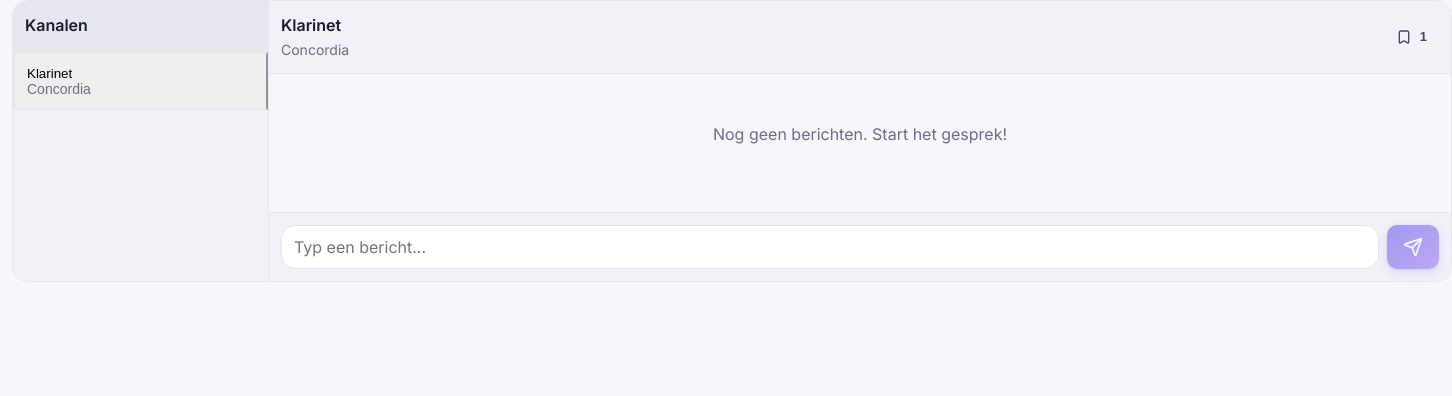
Test: berichten lezen › klapt de vastgepinde berichten open en weer dicht
Expected: the text "Vastgepinde berichten" is not shown
Click the button "1".
click(1411, 37)  # box left=1384, top=21, right=1439, bottom=53
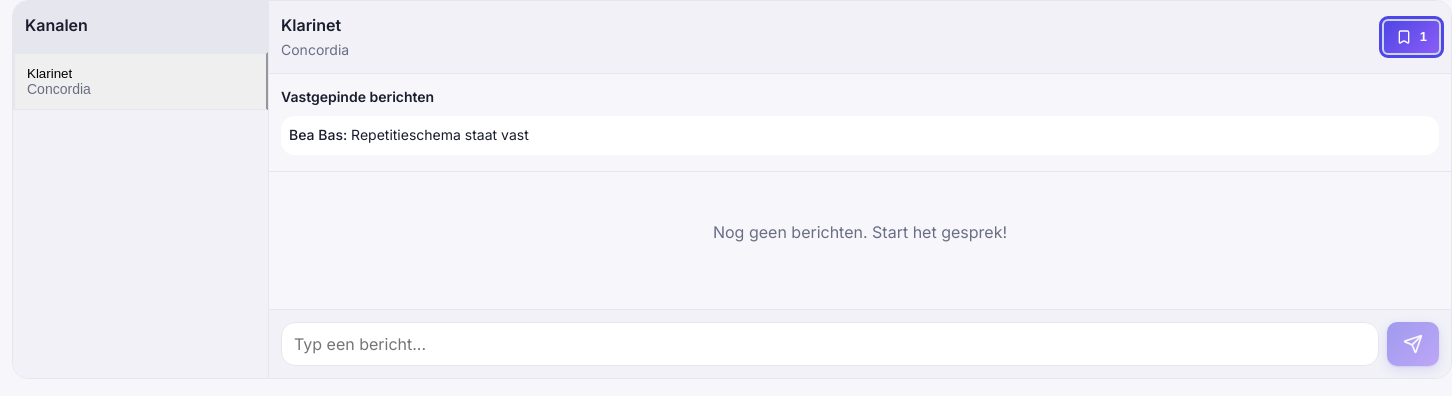
Result: the text "Vastgepinde berichten" is shown at left=281, top=88, right=434, bottom=105
Click the button "1".
click(1411, 37)  # box left=1384, top=21, right=1439, bottom=53
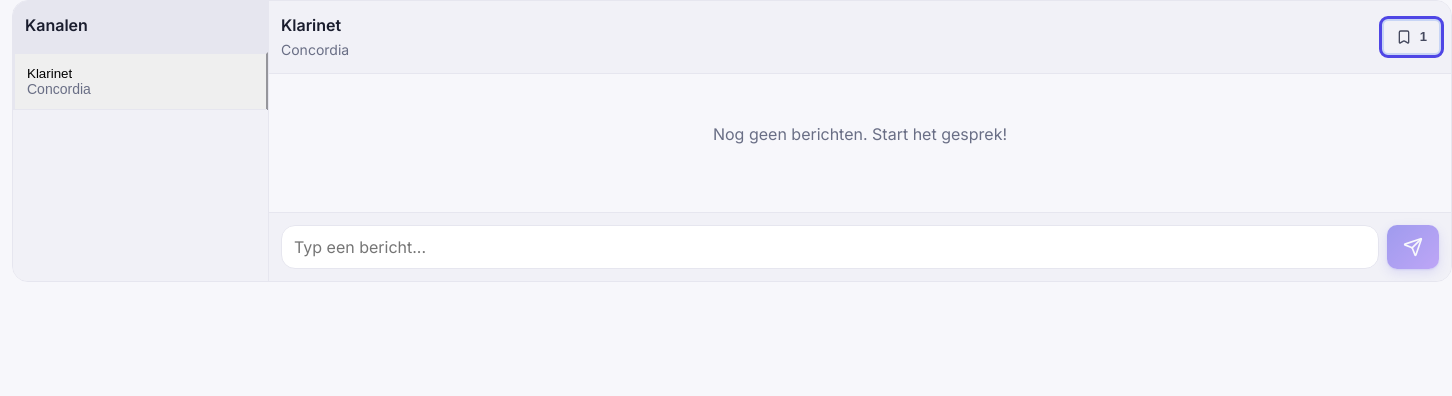
Result: the text "Vastgepinde berichten" is gone
